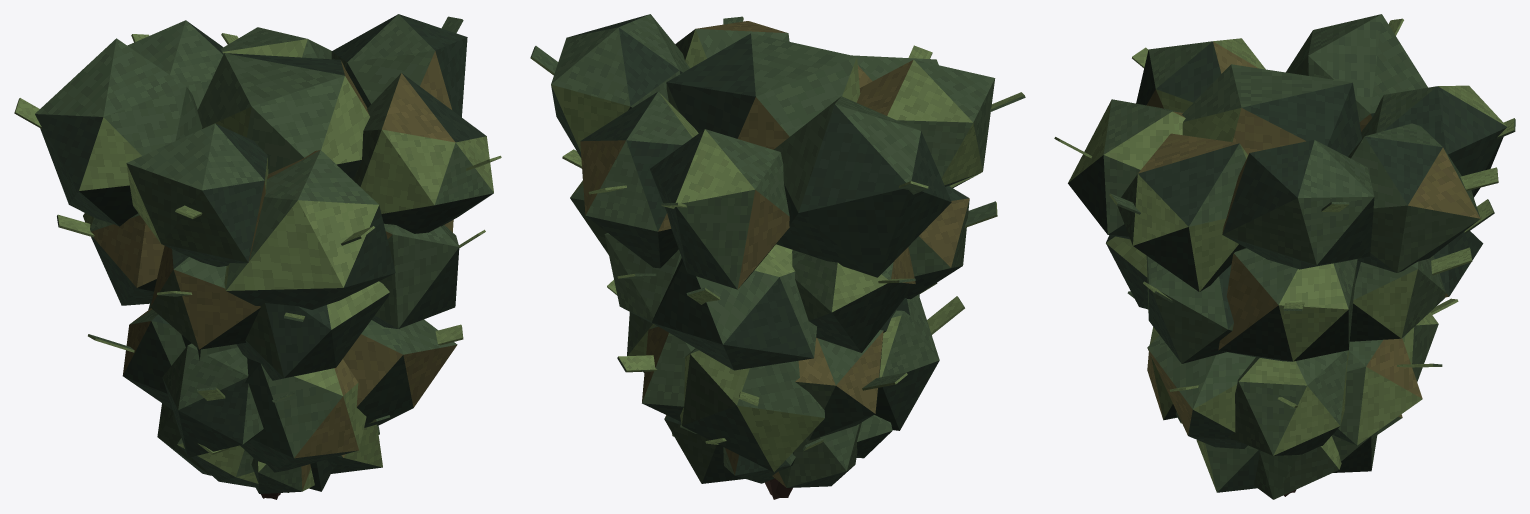
File: bush_tall.glb
3 views of the same model, side by side, from view 1: azimuth 30°, elevation 25°; view 2: azimuth 150°, elevation 25°; view 3: azimuth 270°, elevation 25° (orthographic). The views are drawn at different scales.
Visible parts, largest first — view 1: bush_tall; view 2: bush_tall; view 3: bush_tall.
Boxes of the visible parts, x1=… form: bush_tall: x1=14, y1=14, x2=501, y2=499; bush_tall: x1=530, y1=14, x2=1025, y2=499; bush_tall: x1=1054, y1=14, x2=1515, y2=499.
Bounding box in the file's own units: 1.97 × 2.01 × 1.96.
Materials: 1 (1 with a texture image).
